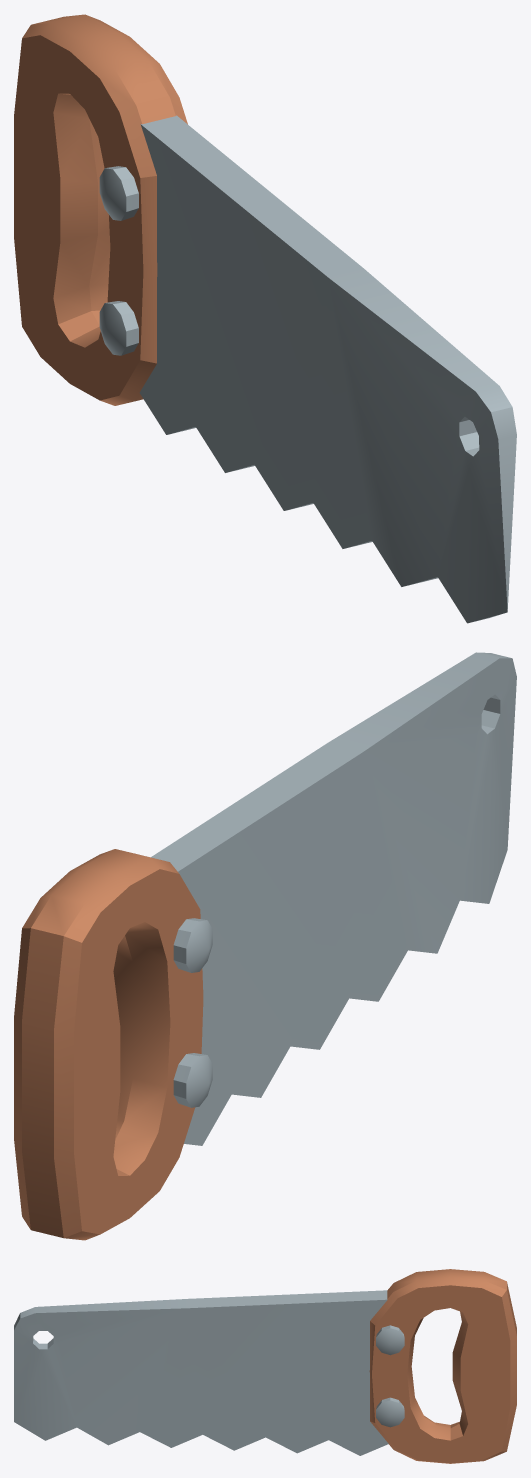
Rendered from handsaw.gltf.glb.
3 views of the same model, one above another, from view 1: azimuth 30°, elevation 25°; view 2: azimuth 150°, elevation 25°; view 3: azimuth 270°, elevation 25° (orthographic). The views are drawn at different scales.
Parts seen in each view (by area): view 1: handsaw; view 2: handsaw; view 3: handsaw.
Part boxes in pixels (<box>): handsaw: <box>14,14,516,623</box>; handsaw: <box>14,652,516,1240</box>; handsaw: <box>14,1269,516,1463</box>.
Size of the model in its own units: 0.1184 by 0.37 by 0.9068.
